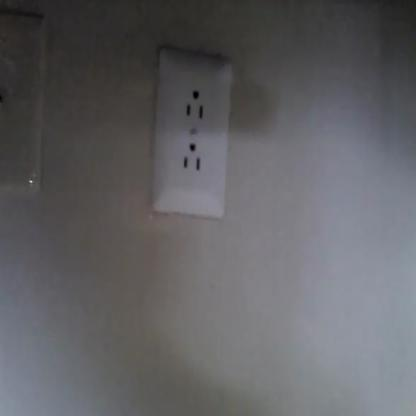OUTLET: (154, 56, 232, 214)
